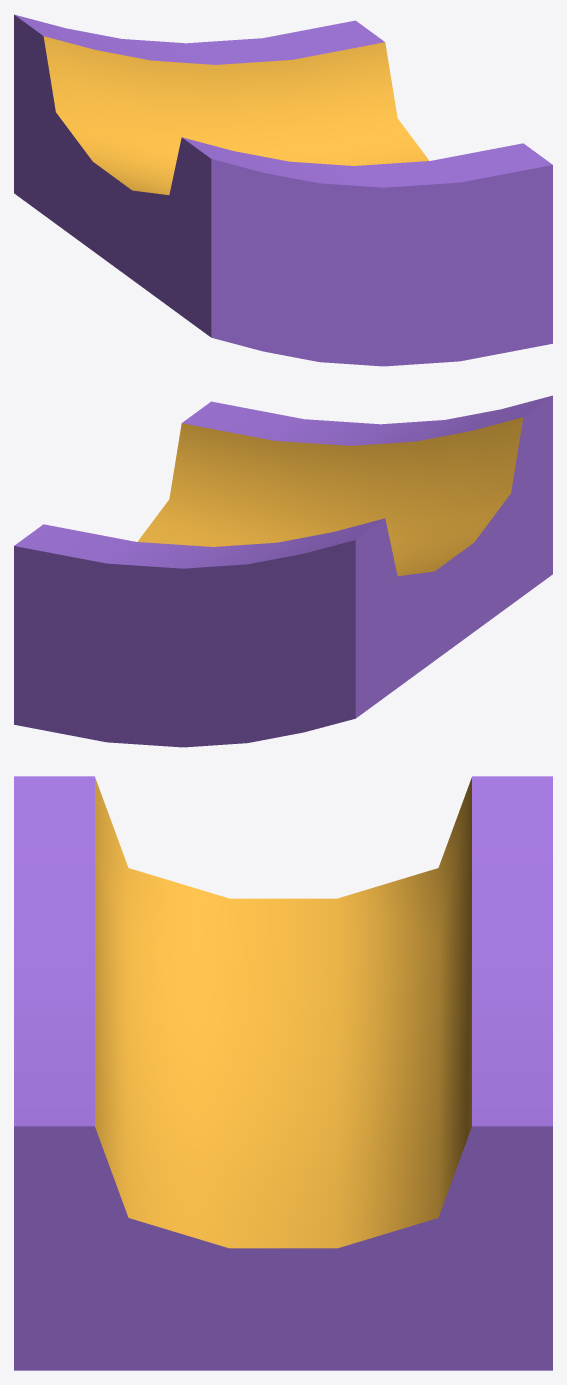
Rendered from ramp-start-b-col.glb.
The picture shows the model from 3 angles, top to bottom: view 1: azimuth 30°, elevation 25°; view 2: azimuth 150°, elevation 25°; view 3: azimuth 270°, elevation 25°; orthographic projection. The views are drawn at different scales.
Visible parts, largest first — view 1: ramp-start-b-col; view 2: ramp-start-b-col; view 3: ramp-start-b-col.
Part boxes in pixels (<box>): ramp-start-b-col: <box>14,14,552,366</box>; ramp-start-b-col: <box>14,395,552,747</box>; ramp-start-b-col: <box>14,776,552,1370</box>.
Size of the model in its own units: 1 by 0.75 by 1.
1 material, 1 textured.
